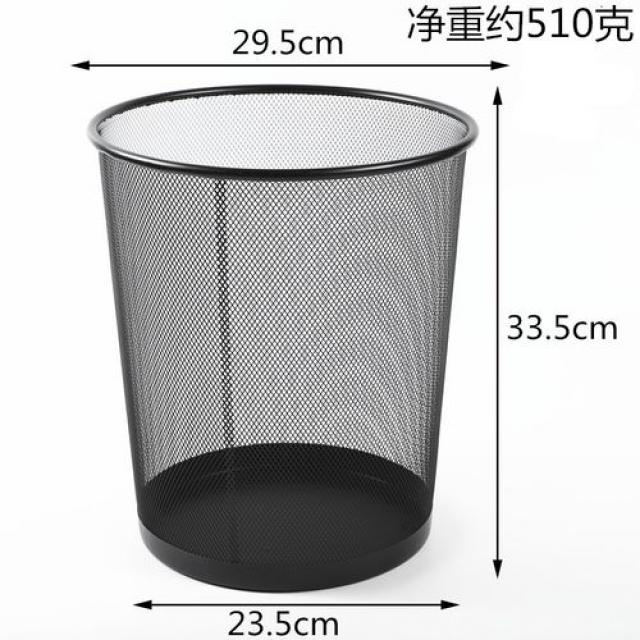Dustbin: (80, 77, 483, 597)
